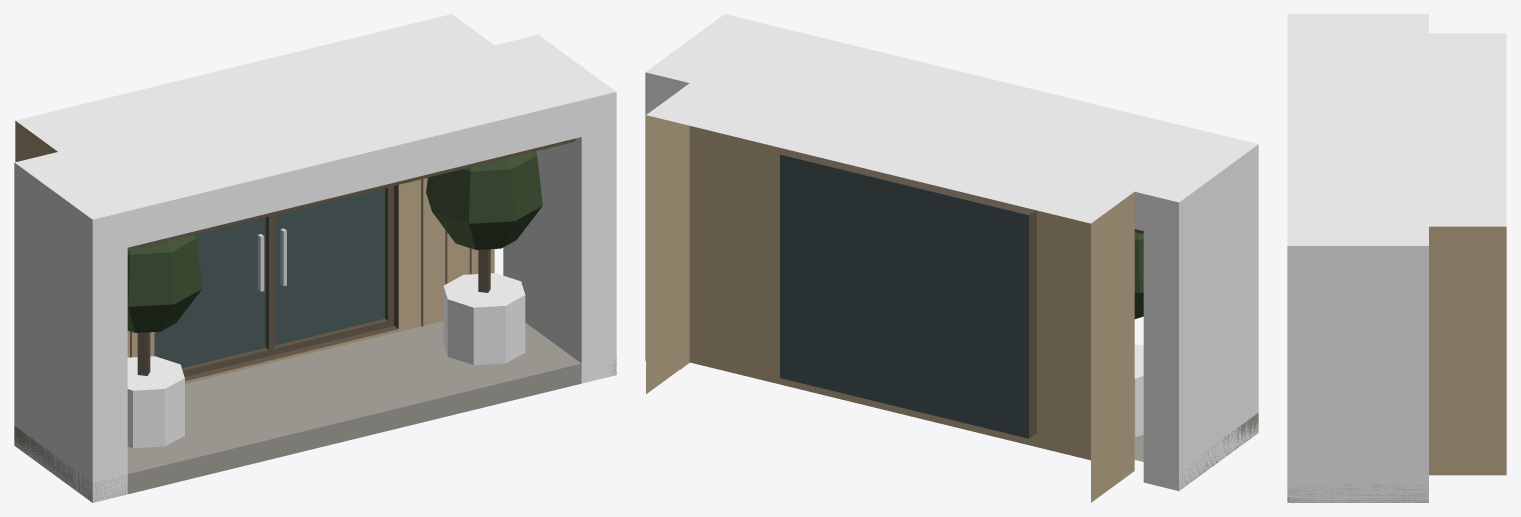
File: entrance_close.fbx
3 views of the same model, side by side, from view 1: azimuth 30°, elevation 25°; view 2: azimuth 150°, elevation 25°; view 3: azimuth 270°, elevation 25° (orthographic). The views are drawn at different scales.
Parts seen in each view (by area): view 1: a2019/500/entrance_close; view 2: a2019/500/entrance_close; view 3: a2019/500/entrance_close.
Part boxes in pixels (x1=…): a2019/500/entrance_close: x1=14, y1=14, x2=616, y2=502; a2019/500/entrance_close: x1=645, y1=14, x2=1258, y2=502; a2019/500/entrance_close: x1=1287, y1=14, x2=1506, y2=502.
Bounding box in the file's own units: 6 × 3.1 × 2.4.
